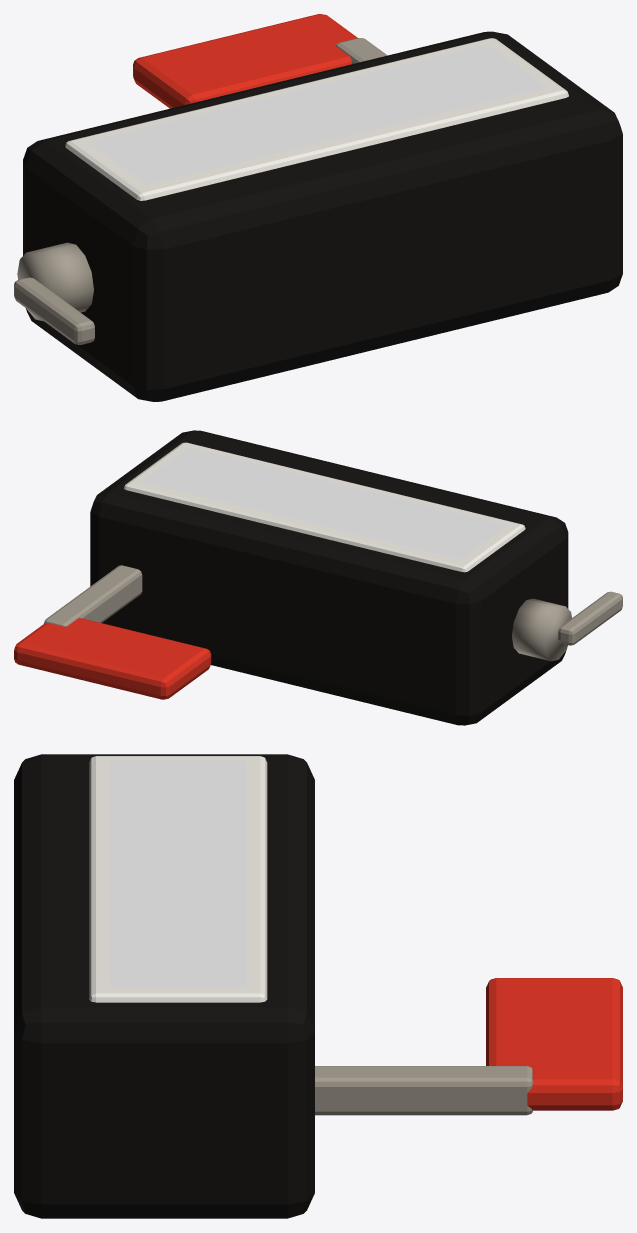
The model's file is kc_taximetro.glb.
3 views of the same model, one above another, from view 1: azimuth 30°, elevation 25°; view 2: azimuth 150°, elevation 25°; view 3: azimuth 270°, elevation 25° (orthographic). The views are drawn at different scales.
Visible parts, largest first — view 1: Cube, screen, Cube.003, Cube.001, Cylinder, Cube.004, Cube.002; view 2: Cube, screen, Cube.003, Cube.001, Cube.002, Cylinder, Cube.004; view 3: Cube, screen, Cube.003, Cube.001, Cube.002.
Part boxes in pixels (left/top/right/bottom): Cube: left=23, top=31, right=622, bottom=401; screen: left=87, top=44, right=546, bottom=184; Cube.003: left=133, top=14, right=357, bottom=108; Cube.001: left=65, top=38, right=568, bottom=200; Cylinder: left=17, top=242, right=93, bottom=321; Cube.004: left=14, top=277, right=94, bottom=344; Cube.002: left=336, top=38, right=387, bottom=63; Cube: left=90, top=430, right=568, bottom=725; screen: left=141, top=447, right=507, bottom=559; Cube.003: left=14, top=618, right=211, bottom=699; Cube.001: left=124, top=442, right=525, bottom=572; Cube.002: left=44, top=565, right=142, bottom=626; Cylinder: left=512, top=598, right=571, bottom=661; Cube.004: left=558, top=591, right=622, bottom=645; Cube: left=14, top=754, right=314, bottom=1218; screen: left=109, top=761, right=246, bottom=986; Cube.003: left=486, top=978, right=622, bottom=1110; Cube.001: left=89, top=756, right=267, bottom=1002; Cube.002: left=315, top=1066, right=532, bottom=1115.
Size of the model in its own units: 1.07 by 0.352 by 0.89.
